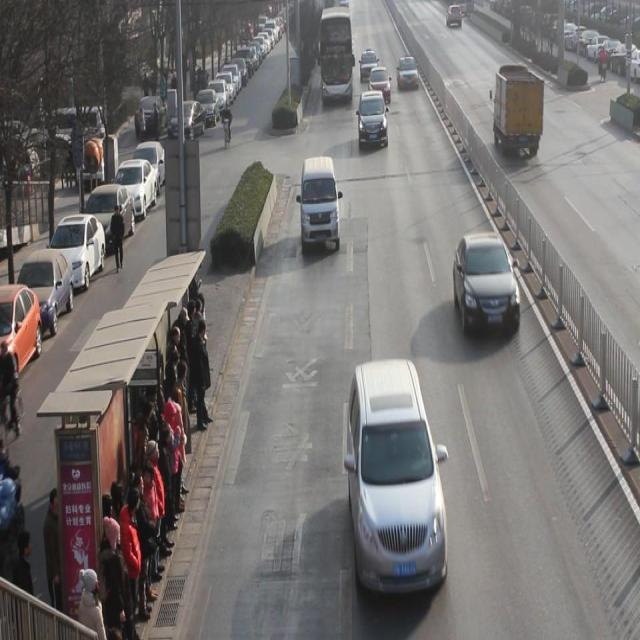bus: (494, 65, 545, 161)
car: (347, 360, 449, 600), (454, 234, 522, 340), (359, 92, 388, 152), (368, 66, 392, 108), (398, 57, 419, 94)
truck: (302, 156, 342, 256)
van: (320, 2, 352, 98)
